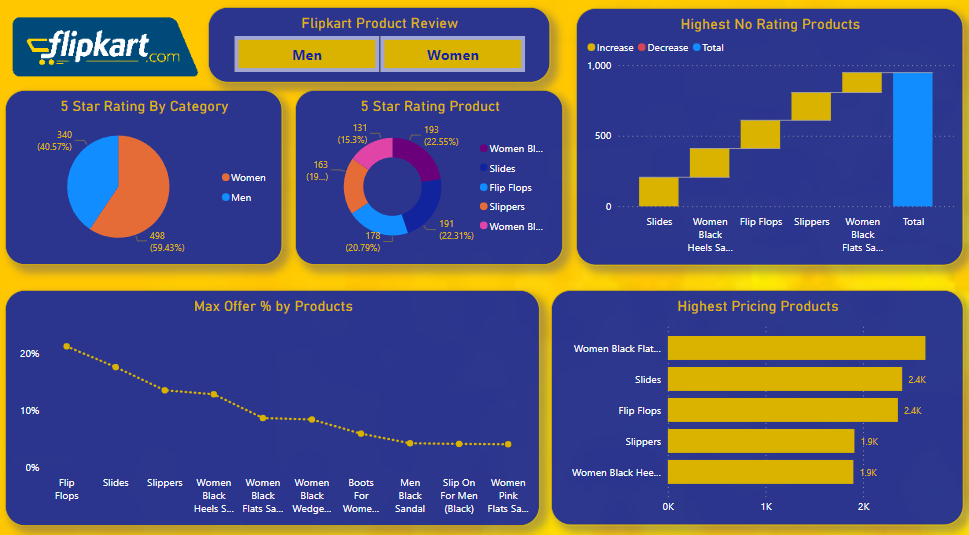

This screenshot's page, from the dashboard's own definition file:
{"tool":"powerbi","page":{"name":"Page 1","canvas":[1280,720],"ordinal":0},"visuals":[{"type":"image","box":[0,0,288,149.2],"z":0},{"type":"lineChart","title":"Max Offer % by Products","fields":{"Category":["train.title"],"Y":["Sum(train.Offer %)"]},"box":[13.1,392.7,700.4,308.9],"z":1000},{"type":"pieChart","title":"5 Star Rating By Category","fields":{"Category":["train.maincateg"],"Y":["Count(train.star_5f)"]},"box":[13.1,130.9,362.6,229.1],"z":2000},{"type":"donutChart","title":"5 Star Rating Product","fields":{"Y":["Count(train.star_5f)"],"Category":["train.title"]},"box":[393.1,131,351.4,229],"z":3000},{"type":"clusteredBarChart","title":"Highest Pricing Products","fields":{"Category":["train.title"],"Y":["Max(train.price1)"]},"box":[727.2,393.1,540,308.2],"z":4000},{"type":"waterfallChart","title":"Highest No Rating Products","fields":{"Category":["train.title"],"Y":["Count(train.norating1)"]},"box":[760.3,23,506.9,337],"z":5000},{"type":"slicer","title":"Flipkart Product Review","fields":{"Values":["train.maincateg"]},"box":[279.4,21.6,447.8,99.4],"z":6000}]}

Visuals, with their boxes in screenshot pixels (x1, y1, x2, y2), scaled from the page's 1280x720 canvas onto the 969x535 screenshot:
image: region(0, 0, 218, 111)
"Max Offer % by Products" lineChart: region(10, 292, 540, 521)
"5 Star Rating By Category" pieChart: region(10, 97, 284, 268)
"5 Star Rating Product" donutChart: region(298, 97, 564, 268)
"Highest Pricing Products" clusteredBarChart: region(551, 292, 959, 521)
"Highest No Rating Products" waterfallChart: region(576, 17, 959, 268)
"Flipkart Product Review" slicer: region(212, 16, 551, 90)
